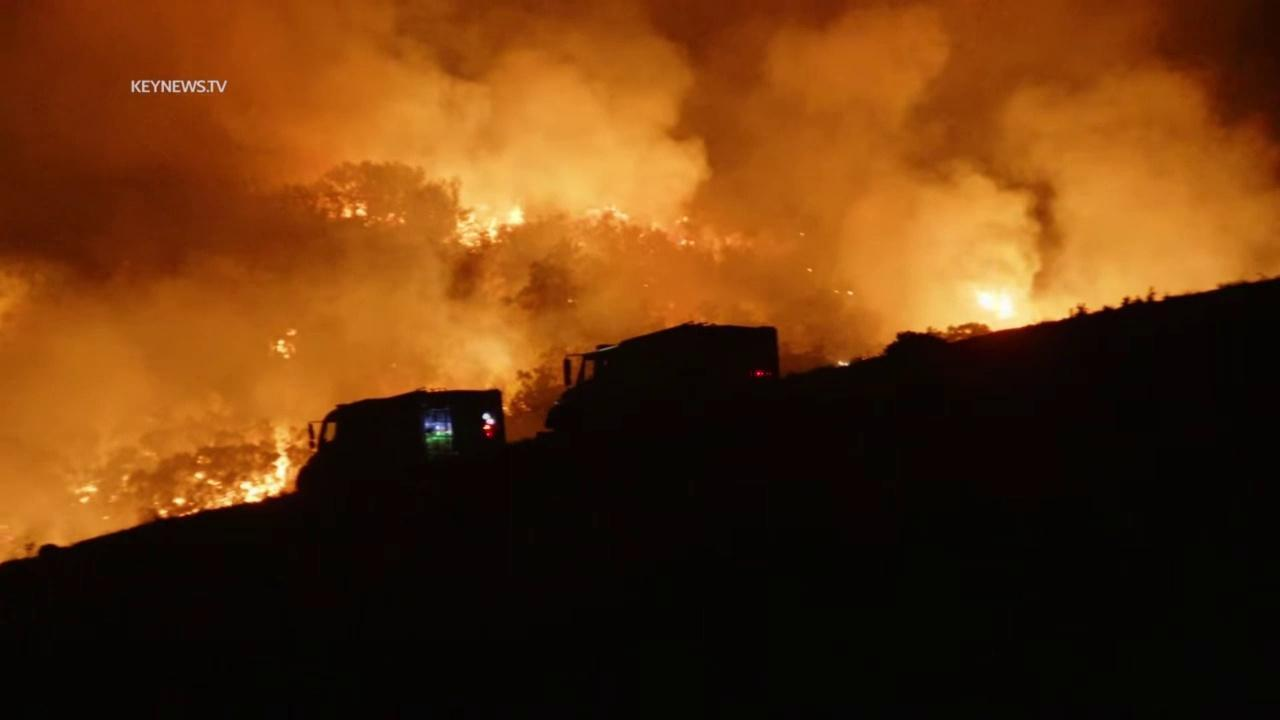fire: (161, 446, 293, 521), (450, 197, 527, 251), (969, 286, 1022, 322), (580, 202, 632, 222), (336, 196, 370, 218), (72, 480, 102, 504), (268, 337, 298, 360), (678, 235, 698, 248), (283, 326, 300, 336), (835, 360, 851, 367), (806, 266, 815, 275), (846, 289, 856, 296)
smoke: (0, 0, 1280, 570)
